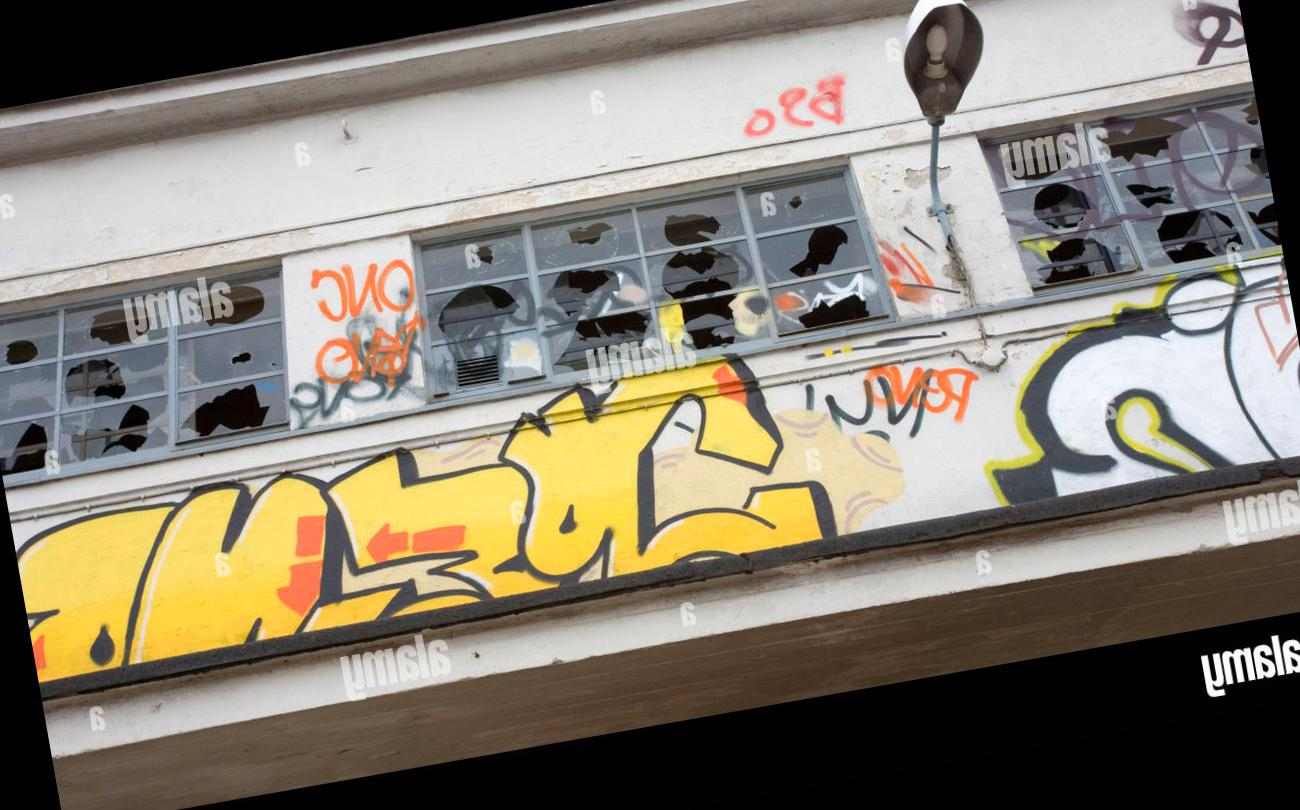graffiti: (16, 357, 832, 682), (988, 289, 1243, 503), (286, 238, 427, 426), (777, 409, 905, 533), (1242, 270, 1300, 461), (828, 365, 978, 434), (1122, 388, 1235, 474), (747, 74, 846, 135), (1176, 1, 1246, 63), (878, 240, 938, 311)
